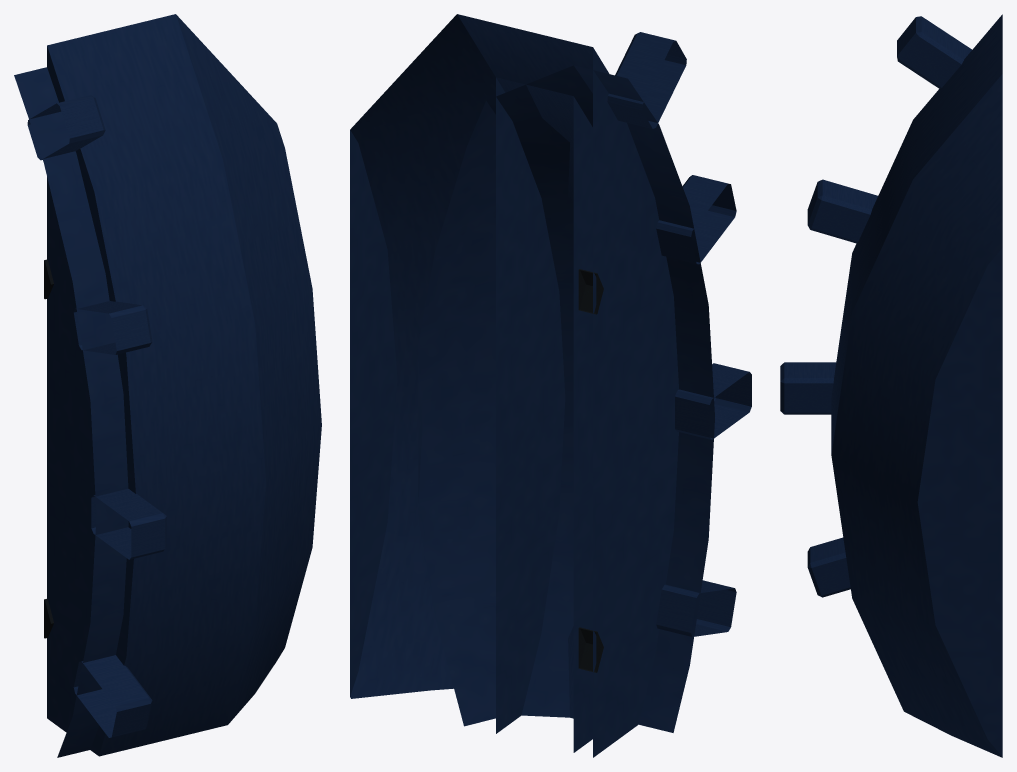
Rendered from cell_35.obj.
The picture shows the model from 3 angles, left to right: view 1: azimuth 30°, elevation 25°; view 2: azimuth 150°, elevation 25°; view 3: azimuth 270°, elevation 25°; orthographic projection. The views are drawn at different scales.
Parts seen in each view (by area): view 1: cell_35; view 2: cell_35; view 3: cell_35.
Boxes of the visible parts, left/top/right/bottom form: cell_35: left=14, top=14, right=321, bottom=757; cell_35: left=350, top=14, right=751, bottom=757; cell_35: left=780, top=14, right=1002, bottom=757.
Size of the model in its own units: 0.3288 by 0.8035 by 0.2538.
